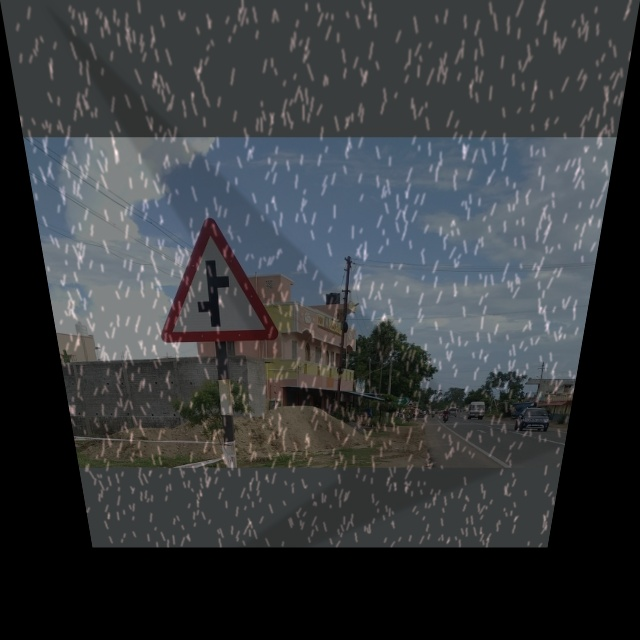Staggered_Intersection: (137, 214, 285, 345)
